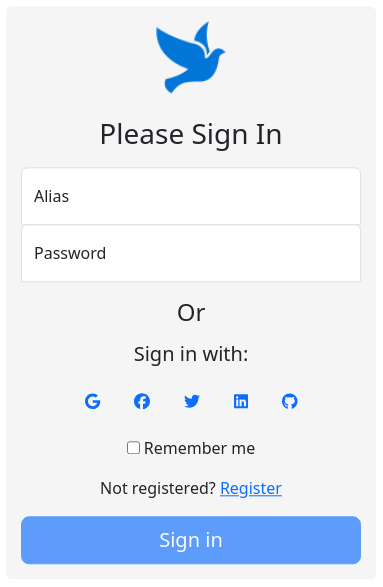
Test: Login Component › disables the sign in button if either the alias or the password is cleared
This screenshot has width=383, height=587.
In the field labelled "Alias": point(191, 196) [21, 167, 361, 225], type "a"
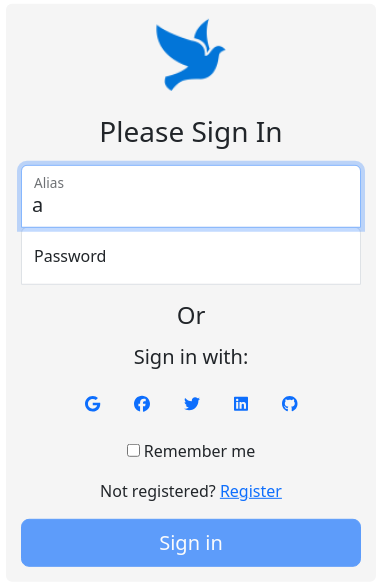
In the password field labelled "Password": point(191, 255) [21, 226, 361, 284], type "b"
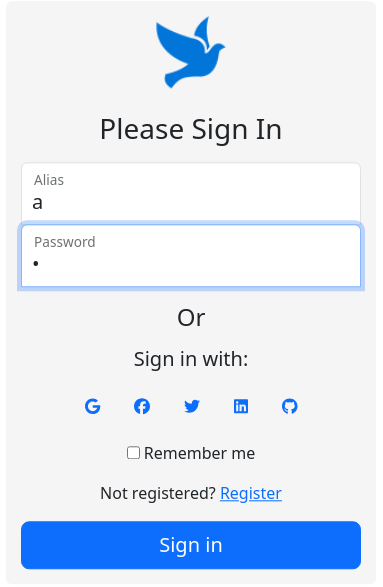
Now the button "Sign in" is enabled, box [21, 522, 361, 570]
Clear the field labelled "Alias": point(191, 193) [21, 162, 361, 225]
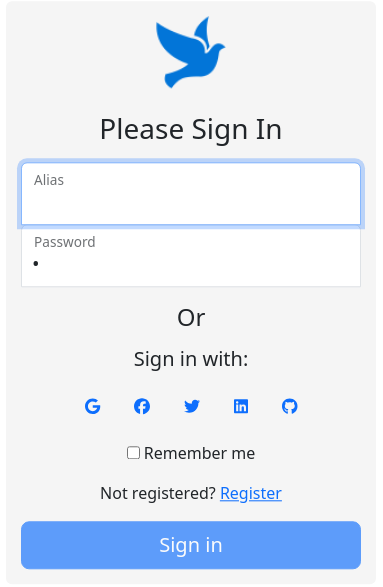
Now the button "Sign in" is disabled, box [21, 522, 361, 570]
In the field labelled "Alias": point(191, 193) [21, 162, 361, 225], type "a"
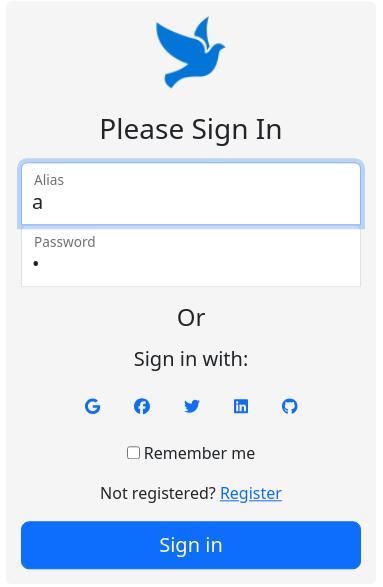
Now the button "Sign in" is enabled, box [21, 522, 361, 570]
Clear the password field labelled "Password": point(191, 255) [21, 224, 361, 287]
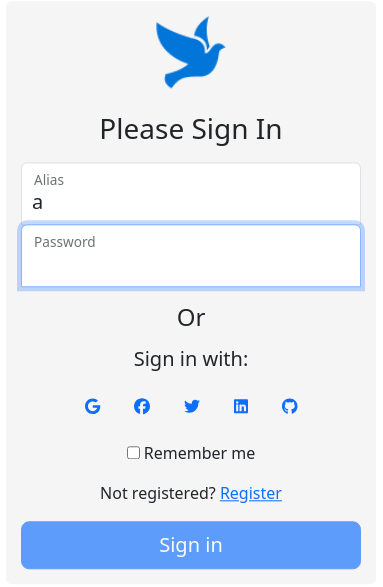
Now the button "Sign in" is disabled, box [21, 522, 361, 570]
